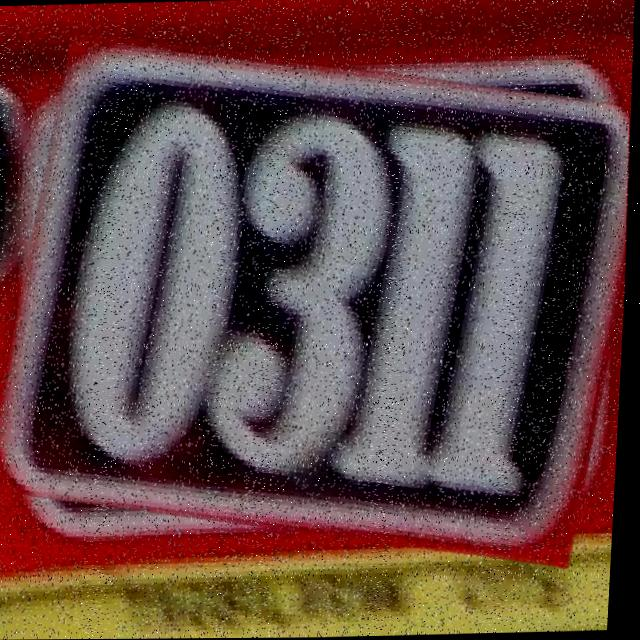LicensePlate: (0, 38, 638, 560)
